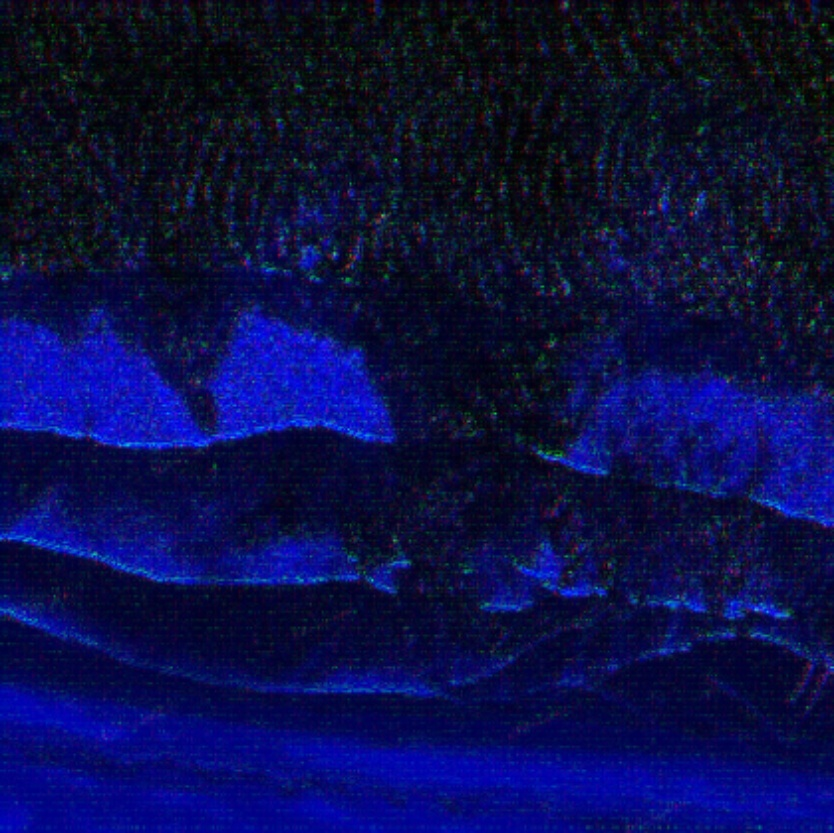rip_current: (334, 244, 607, 690)
